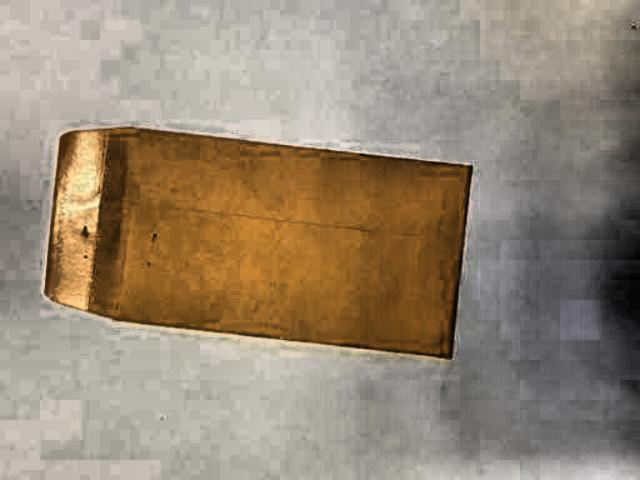Paper: (50, 98, 477, 395)
